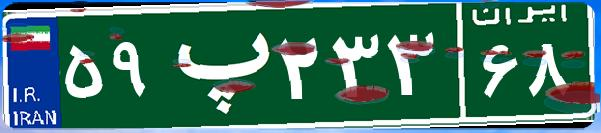2: (273, 28, 330, 110)
3: (385, 28, 445, 110), (330, 28, 385, 110)
5: (57, 26, 110, 107)
6: (475, 38, 525, 113)
8: (525, 38, 570, 115)
9: (110, 28, 158, 105)
پ: (158, 15, 273, 115)
